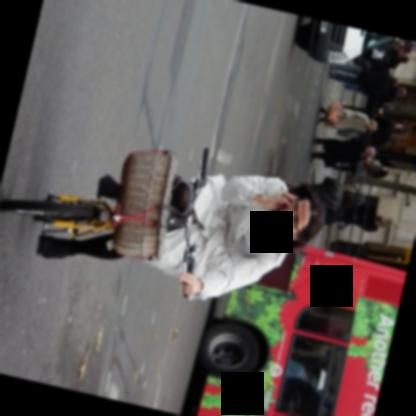handbag: (322, 99, 346, 126)
